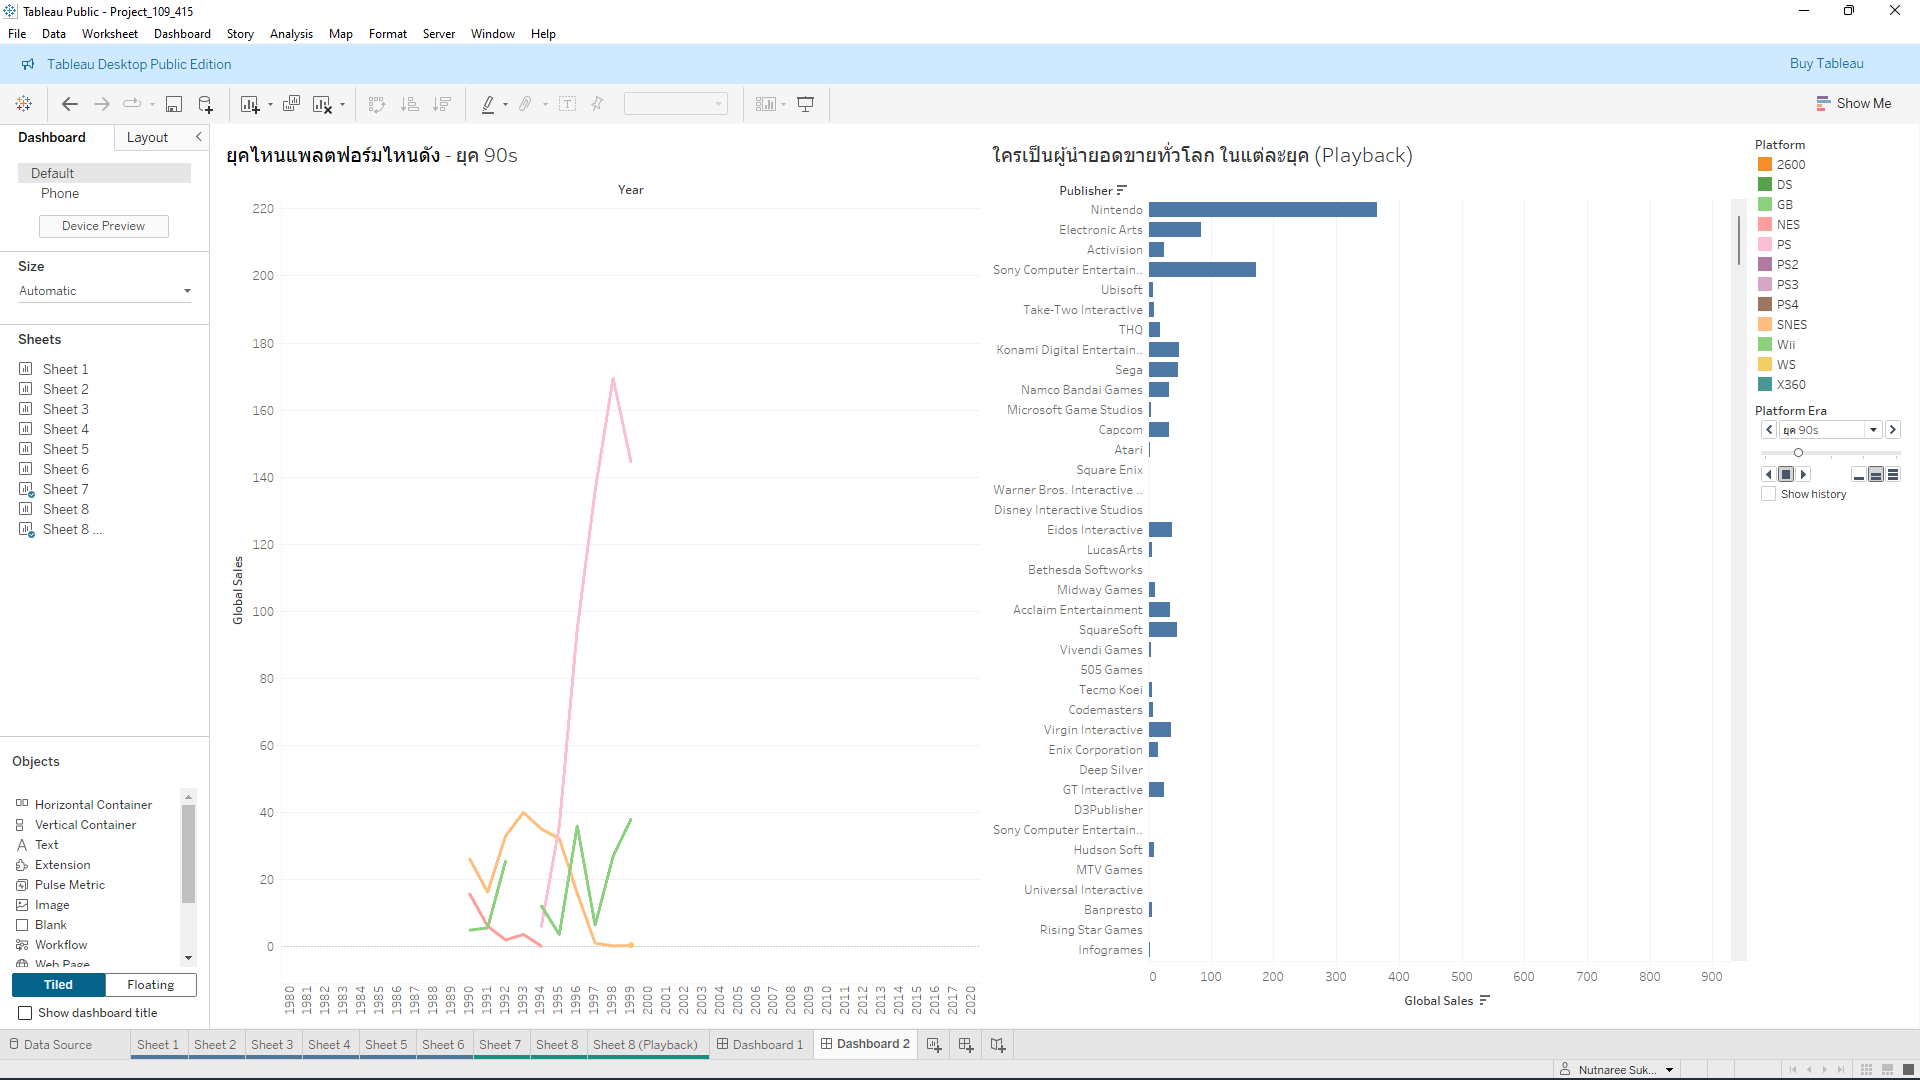

The dashboard page shown, as its layout file describes it:
{"tool":"tableau","page":{"name":"Dashboard 2","canvas":[1000,1000],"units":"permille","ordinal":1},"visuals":[{"type":"worksheet","title":"Sheet 7","mark":"Line","rows":["Global_Sales"],"cols":["Year"],"box":[4.7,8.8,448.5,982.3]},{"type":"worksheet","title":"Sheet 8 (Playback)","mark":"Automatic","rows":["Publisher"],"cols":["Global_Sales"],"box":[453.2,8.8,448.5,982.3]},{"type":"legend","title":"Sheet 7","param":"[federated.082d6w301ytw0d1fbyf6z1rj0ktg].[none:Platform:nk]","box":[901.7,8.8,93.6,294.2]},{"type":"currpage","title":"Sheet 7","box":[901.7,303.1,93.6,121.7]}]}

Visuals, with their boxes on the dashboard's canvas, which has no fixed pixel size, in thousandths of its width and height (x1, y1, x2, y2). These are canvas units, not pixel positions in the 1920x1080 screenshot, which may show the page scaled, cropped or inside an application window:
"Sheet 7" worksheet (Line marks): (5, 9, 453, 991)
"Sheet 8 (Playback)" worksheet: (453, 9, 902, 991)
"Sheet 7" legend: (902, 9, 995, 303)
"Sheet 7" currpage: (902, 303, 995, 425)
